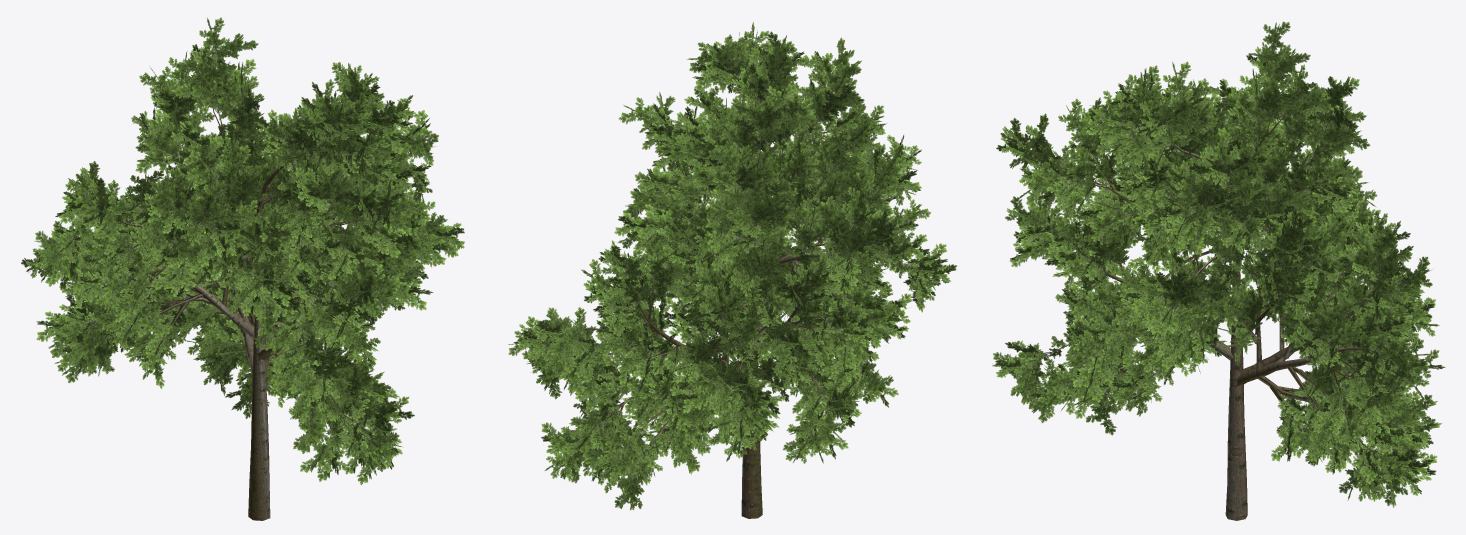
File: tree4.glb
3 renders of one model, left to right at view 1: azimuth 30°, elevation 25°; view 2: azimuth 150°, elevation 25°; view 3: azimuth 270°, elevation 25°, orthographic. The views are drawn at different scales.
Parts seen in each view (by area): view 1: Tree EZTree0.Medium010; view 2: Tree EZTree0.Medium010; view 3: Tree EZTree0.Medium010.
Part boxes in pixels (bbox=[...]): Tree EZTree0.Medium010: bbox=[21, 17, 464, 520]; Tree EZTree0.Medium010: bbox=[508, 22, 956, 518]; Tree EZTree0.Medium010: bbox=[992, 21, 1445, 520].
Size of the model in its own units: 56.93 by 66.67 by 57.75.
Materials: 2 (2 with a texture image).
